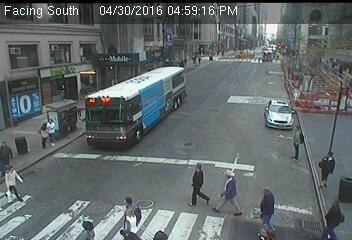neg: (89, 149, 111, 178), (152, 33, 173, 61), (152, 102, 172, 128), (50, 166, 69, 191), (222, 63, 240, 88), (181, 87, 199, 111), (70, 215, 88, 239), (224, 112, 242, 135), (295, 65, 311, 86), (295, 35, 309, 54), (99, 107, 113, 124), (254, 59, 266, 76), (68, 171, 80, 187), (206, 78, 218, 94), (326, 117, 334, 127), (244, 117, 251, 126), (148, 153, 154, 161), (325, 94, 331, 101), (311, 90, 316, 98), (331, 132, 335, 138)
pos: (180, 160, 215, 206), (211, 166, 245, 212), (319, 195, 350, 237), (253, 183, 284, 225), (313, 149, 344, 190), (281, 122, 310, 161), (117, 195, 142, 229), (38, 117, 62, 149), (32, 121, 53, 149), (122, 206, 142, 233), (196, 55, 204, 66), (190, 54, 197, 63)
